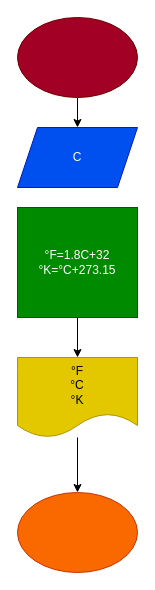
The diagram is 155 pixels wide and 590 high, and some of its shapes have lost their labels. The shapes that lost their labels are listed below. From the top down, each one's centre as x and y in pixels, then its label:
[77,57]: INICIO
[77,532]: FIN
